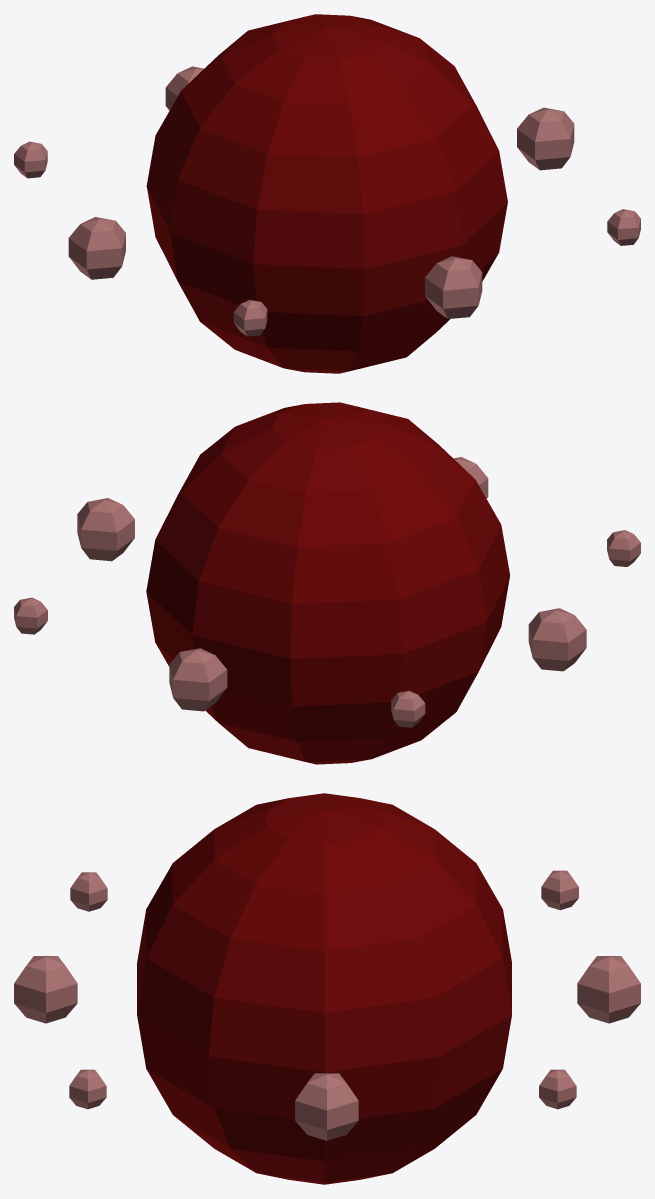
File: MotherAI.fbx
The picture shows the model from 3 angles, top to bottom: view 1: azimuth 30°, elevation 25°; view 2: azimuth 150°, elevation 25°; view 3: azimuth 270°, elevation 25°; orthographic projection. The views are drawn at different scales.
Parts seen in each view (by area): view 1: pSphere1, pSphere3; view 2: pSphere1, pSphere3; view 3: pSphere1, pSphere3.
Boxes of the visible parts, x1,y1,x2,y2 form: pSphere1: [146, 14, 507, 373]; pSphere3: [14, 66, 640, 336]; pSphere1: [146, 402, 509, 764]; pSphere3: [14, 457, 640, 727]; pSphere1: [137, 793, 511, 1184]; pSphere3: [14, 870, 640, 1140].
Bounding box in the file's own units: 6.63 × 4.2 × 6.68.
